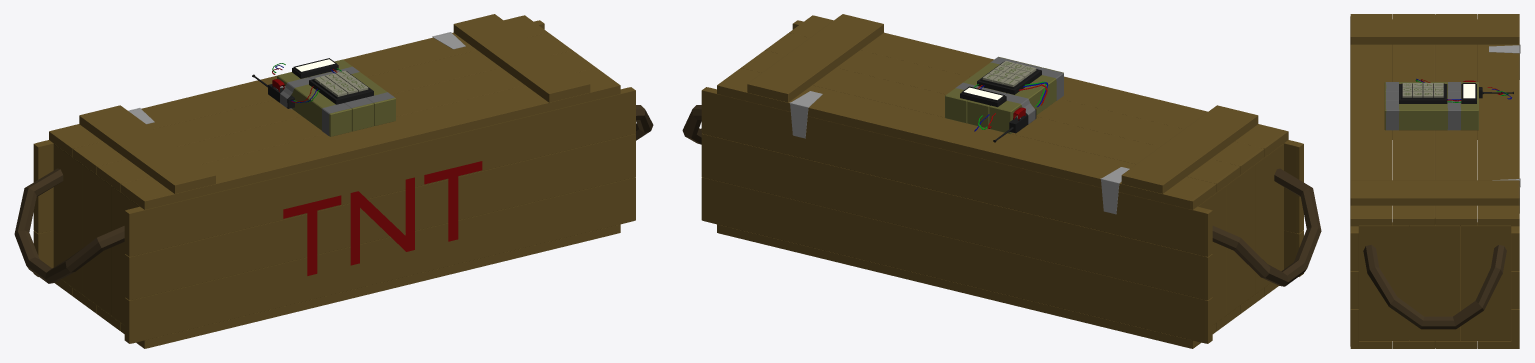
File: Bomb.fbx
3 views of the same model, side by side, from view 1: azimuth 30°, elevation 25°; view 2: azimuth 150°, elevation 25°; view 3: azimuth 270°, elevation 25° (orthographic). The views are drawn at different scales.
Visible parts, largest first — view 1: Box, Lid, Text, RopeHandle, C4, Tape, Keypad; view 2: Box, Lid, RopeHandle, C4, Tape, Keypad, HingeBox.001, HingeBox; view 3: Lid, Box, RopeHandle, C4, Tape, Keypad, HineLid, Timer.001, Timer.
Boxes of the visible parts, x1,y1,x2,y2 form: Box: (33, 20, 635, 348); Lid: (49, 14, 620, 209); Text: (283, 161, 482, 275); RopeHandle: (14, 105, 653, 283); C4: (277, 59, 395, 136); Tape: (280, 66, 394, 136); Keypad: (309, 71, 373, 104); Box: (701, 20, 1303, 348); Lid: (717, 14, 1288, 209); RopeHandle: (682, 105, 1321, 286); C4: (945, 56, 1063, 133); Tape: (956, 57, 1063, 124); Keypad: (977, 61, 1041, 94); HingeBox.001: (790, 103, 808, 138); HingeBox: (1101, 179, 1119, 214); Lid: (1350, 14, 1519, 226); Box: (1350, 16, 1519, 348); RopeHandle: (1363, 244, 1506, 329); C4: (1384, 82, 1478, 130); Tape: (1386, 82, 1461, 130); Keypad: (1399, 83, 1447, 103); HineLid: (1489, 44, 1520, 53); Timer.001: (1463, 84, 1475, 98); Timer: (1461, 83, 1476, 103).
Size of the model in its own units: 5366 by 1537 by 1511.
